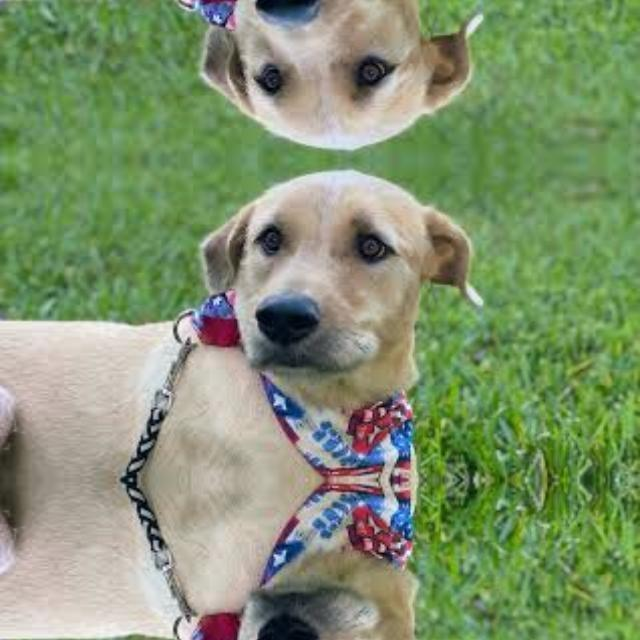dog: (187, 170, 475, 388), (187, 0, 475, 150), (187, 572, 475, 640)
